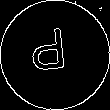P_S: (34, 28, 76, 82)
